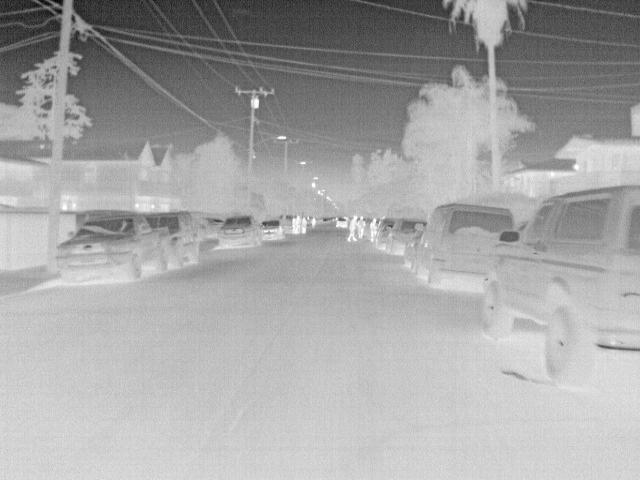car: (482, 182, 639, 388), (412, 202, 516, 289), (54, 213, 170, 283), (147, 211, 203, 265), (218, 214, 265, 248), (384, 218, 426, 255), (200, 215, 226, 239), (371, 220, 393, 246), (259, 220, 284, 240), (334, 214, 351, 227)
person: (345, 213, 359, 242), (367, 218, 379, 244), (356, 214, 367, 240), (300, 216, 308, 235), (293, 214, 300, 235), (309, 216, 317, 228)
